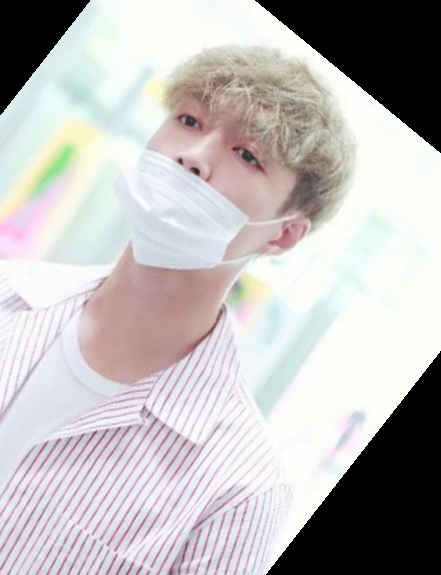mask_weared_incorrect: (112, 24, 377, 321)
